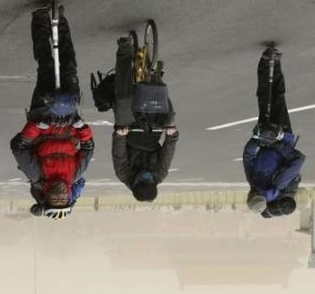person: (11, 9, 95, 221), (112, 35, 179, 204), (241, 53, 306, 216)
